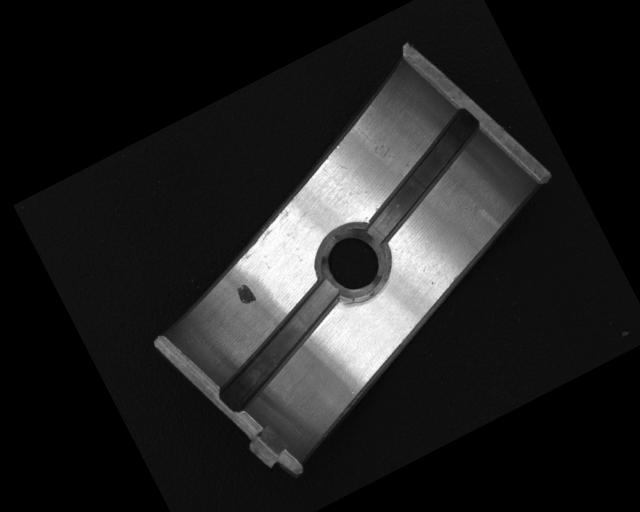blot: (233, 281, 258, 310)
gap: (337, 105, 509, 249), (194, 274, 364, 415)
hole: (311, 220, 398, 311)
